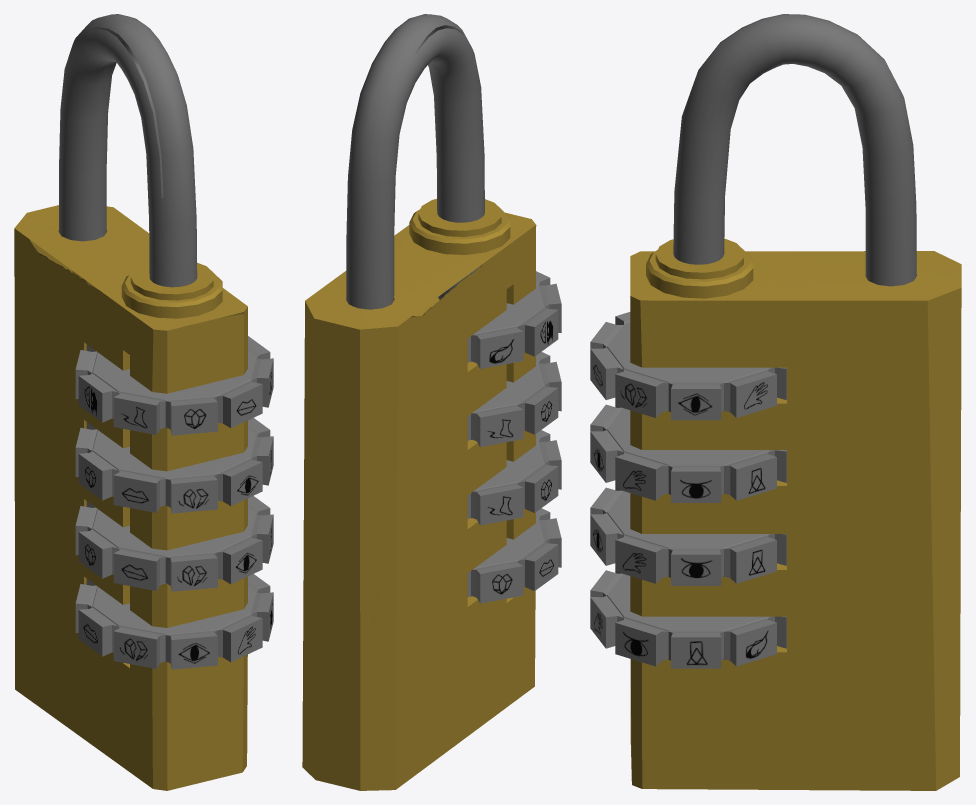
The model's file is Lock.fbx.
3 renders of one model, left to right at view 1: azimuth 30°, elevation 25°; view 2: azimuth 150°, elevation 25°; view 3: azimuth 270°, elevation 25°, orthographic. The views are drawn at different scales.
Visible parts, largest first — view 1: lock, lock_top, lock_b02, lock_b01, lock_b04, lock_b03; view 2: lock, lock_top, lock_b02, lock_b01, lock_b04, lock_b03; view 3: lock, lock_top, lock_b01, lock_b02, lock_b04, lock_b03.
Part boxes in pixels (left/top/right/bottom): lock: left=14, top=205, right=247, bottom=790; lock_top: left=59, top=14, right=197, bottom=287; lock_b02: left=75, top=418, right=273, bottom=513; lock_b01: left=75, top=336, right=273, bottom=435; lock_b04: left=75, top=574, right=273, bottom=669; lock_b03: left=75, top=496, right=273, bottom=591; lock: left=302, top=199, right=536, bottom=790; lock_top: left=346, top=14, right=484, bottom=309; lock_b02: left=467, top=352, right=561, bottom=446; lock_b01: left=467, top=271, right=561, bottom=368; lock_b04: left=467, top=508, right=561, bottom=603; lock_b03: left=467, top=430, right=561, bottom=525; lock: left=630, top=238, right=961, bottom=790; lock_top: left=673, top=14, right=916, bottom=286; lock_b01: left=590, top=312, right=786, bottom=420; lock_b02: left=590, top=404, right=786, bottom=502; lock_b04: left=590, top=570, right=786, bottom=668; lock_b03: left=590, top=487, right=786, bottom=585.
Bounding box in the file's own units: 4.27 × 17.15 × 7.69.
